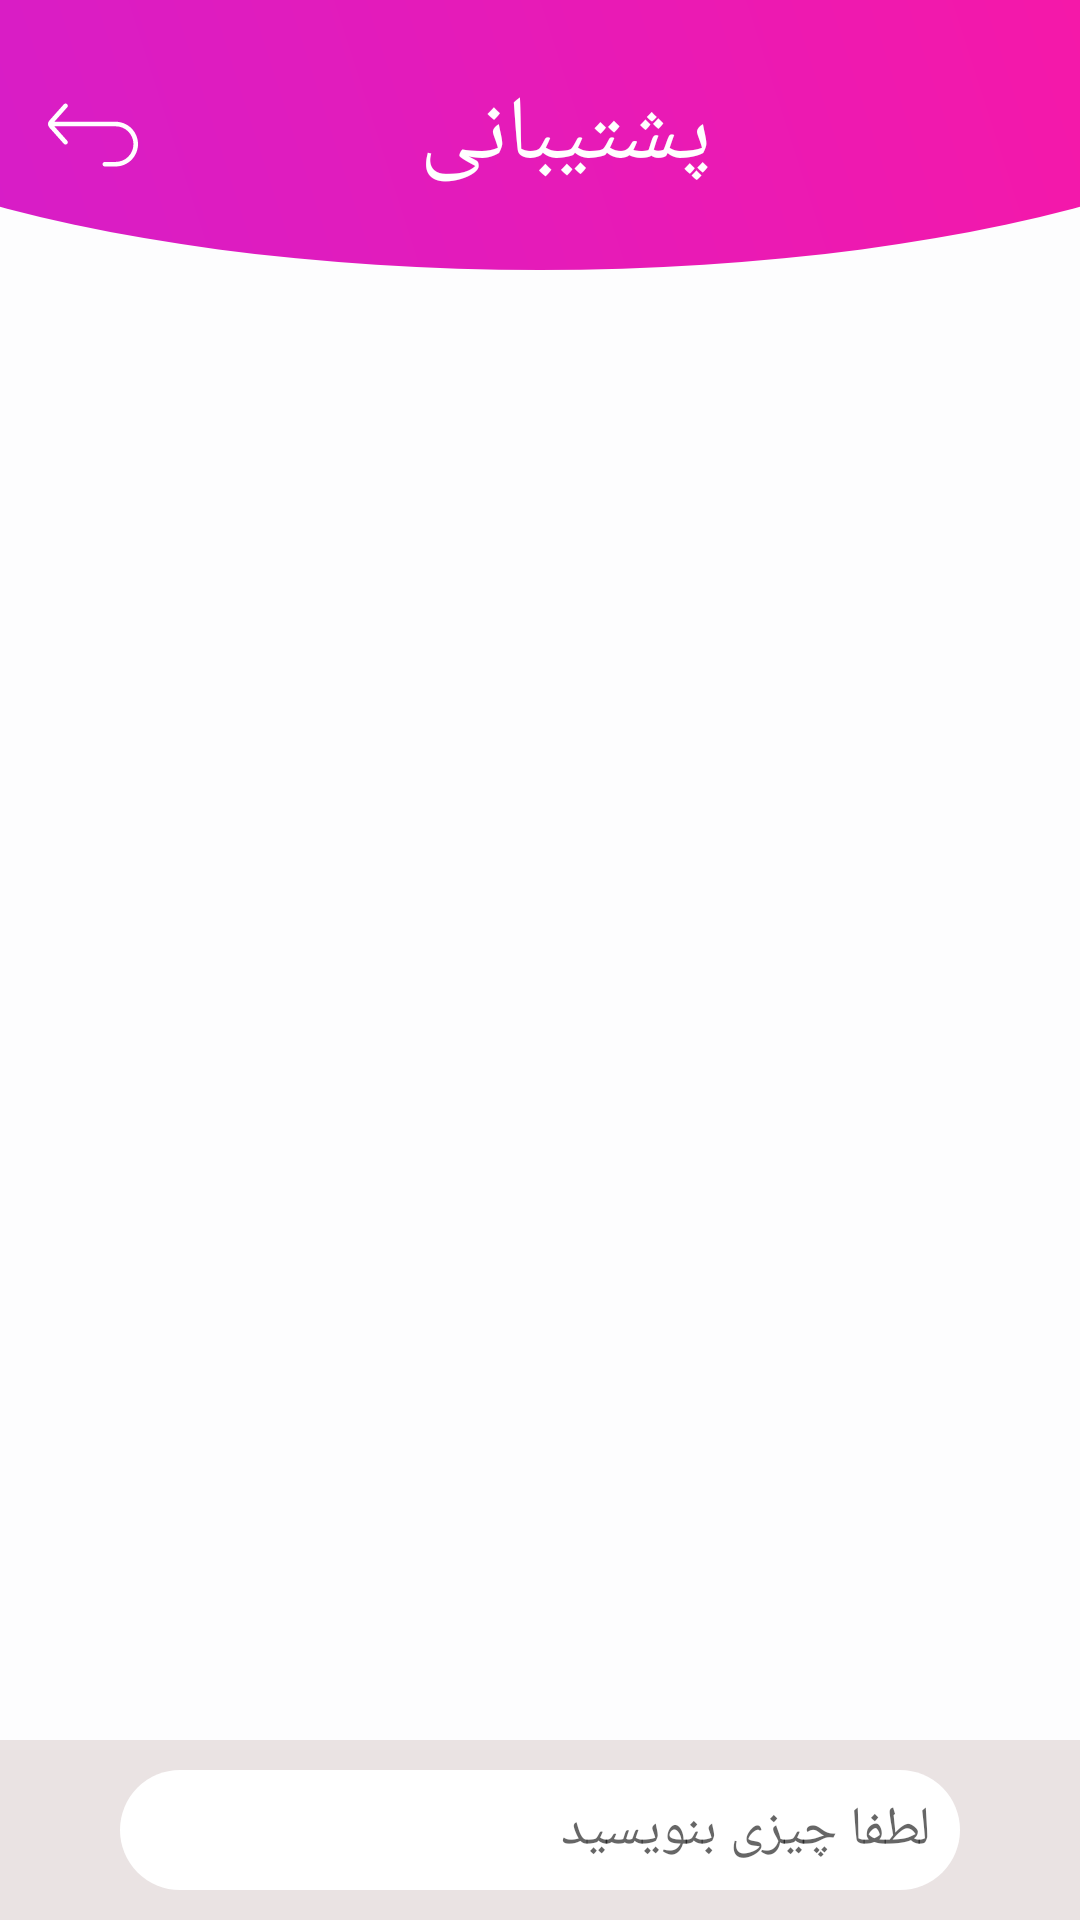

Screen size 1080px x 1920px. Icon name, then its center in pixels as (x,y):
return: (93,135)
